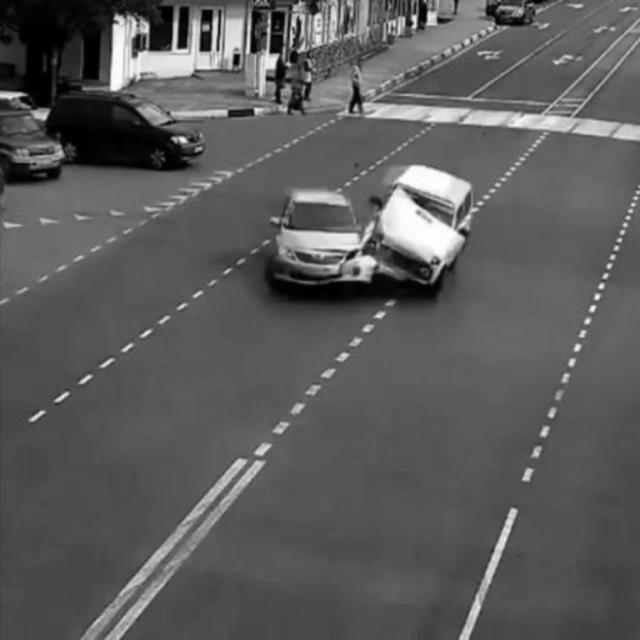accident: (270, 172, 475, 296)
person: (352, 53, 366, 119)
vehicle: (45, 95, 205, 171), (1, 101, 67, 177)
